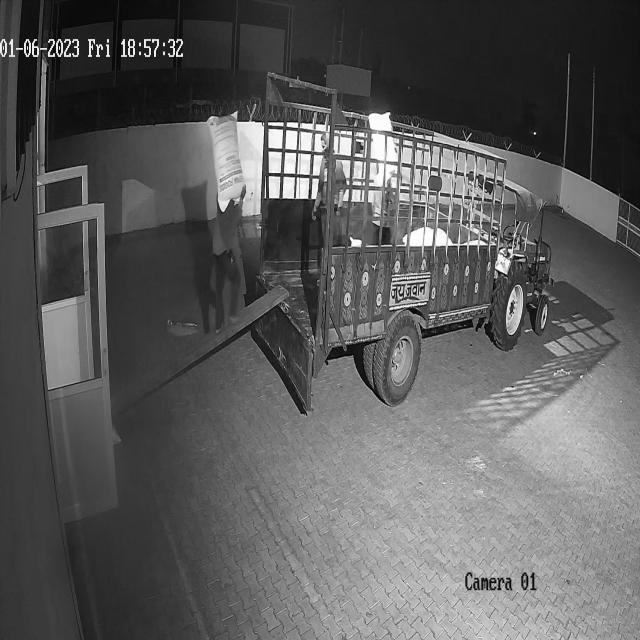sack: (208, 111, 245, 212)
